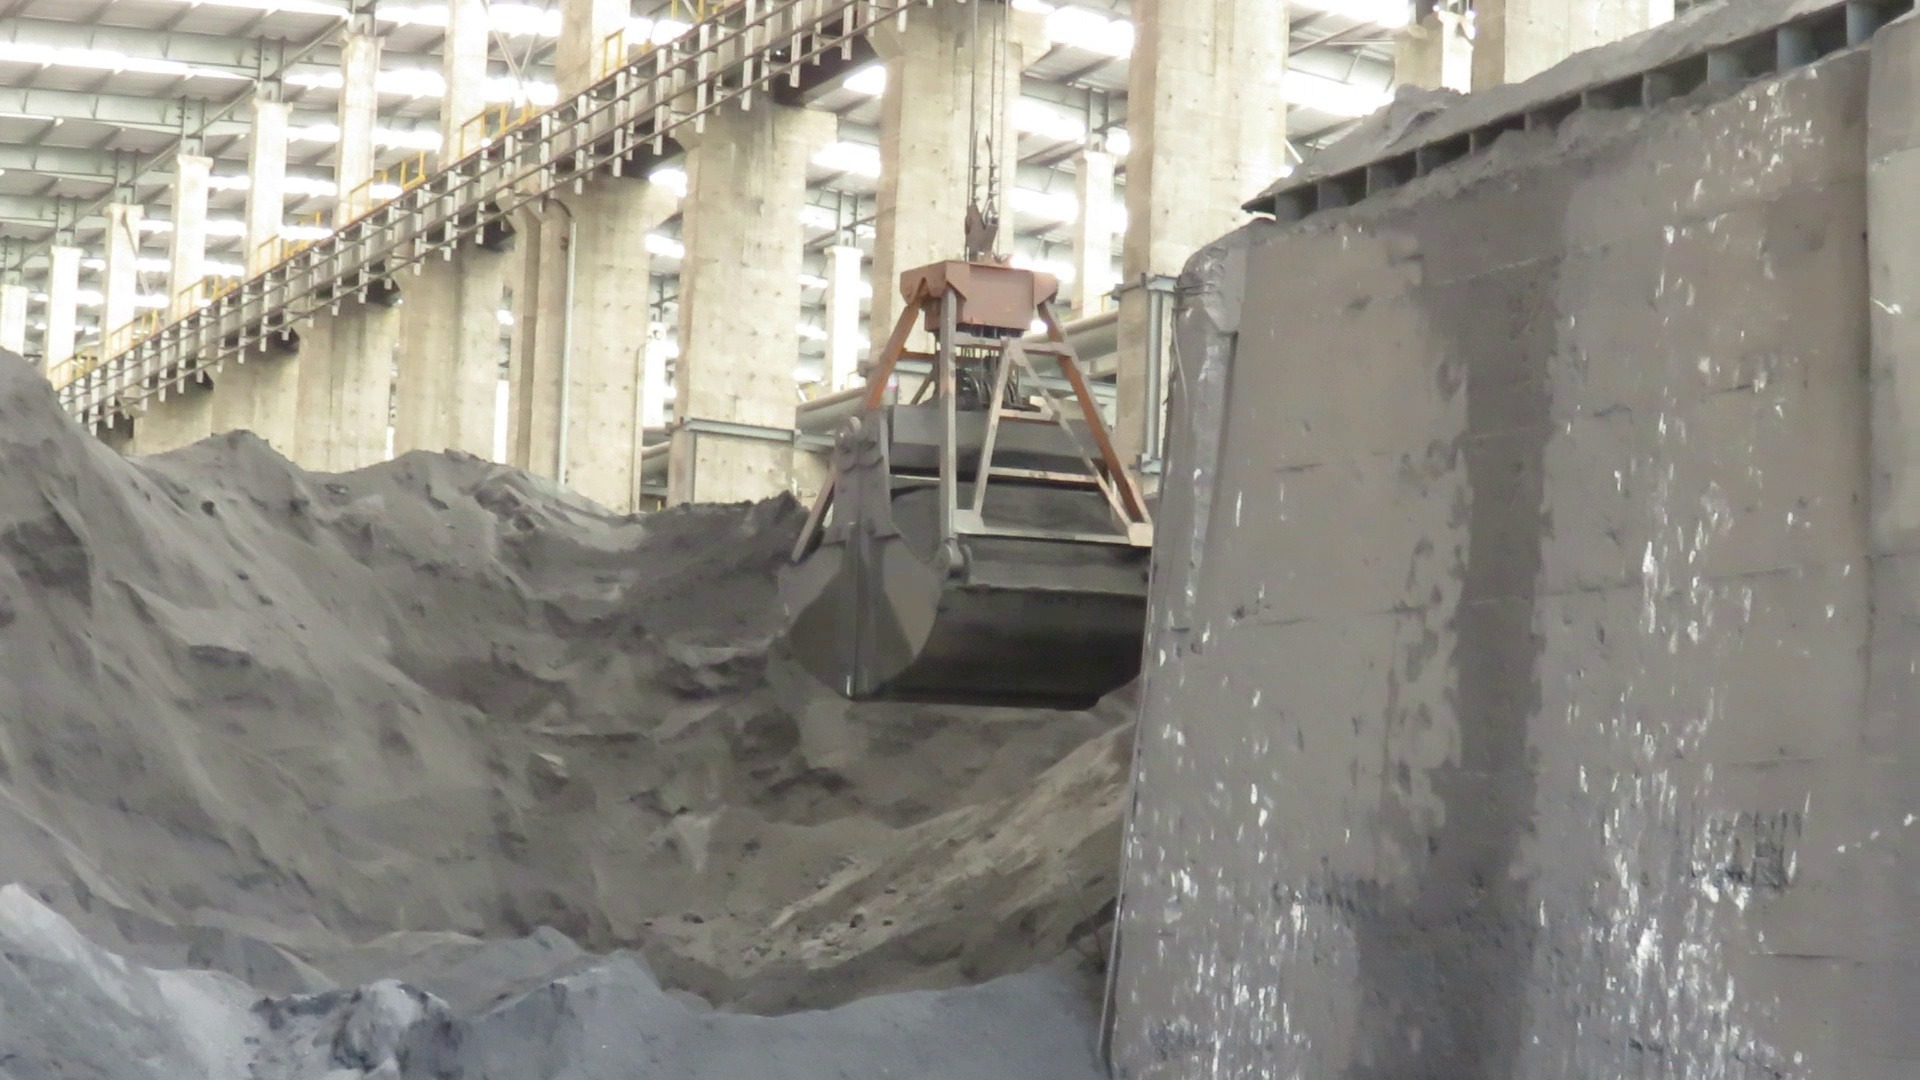grab: (762, 204, 1167, 717)
